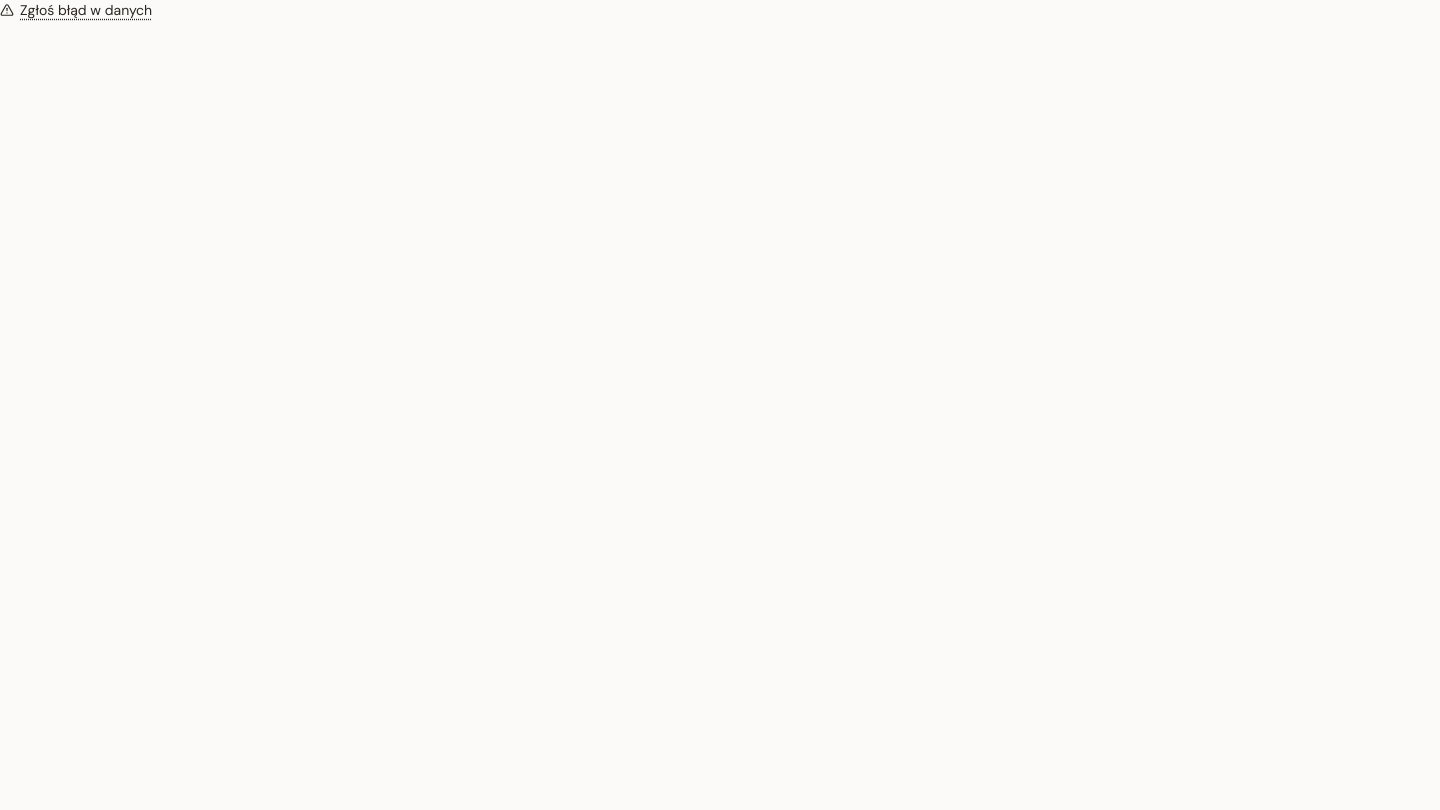
Test case: ReportIssueButton — „wstecz” zamyka dialog (GL-4-056) › „Anuluj” zdejmuje atrapę jednym history.back()
Click the button "Zgłoś błąd w danych". click: (76, 10)
box: left=0, top=0, right=152, bottom=20
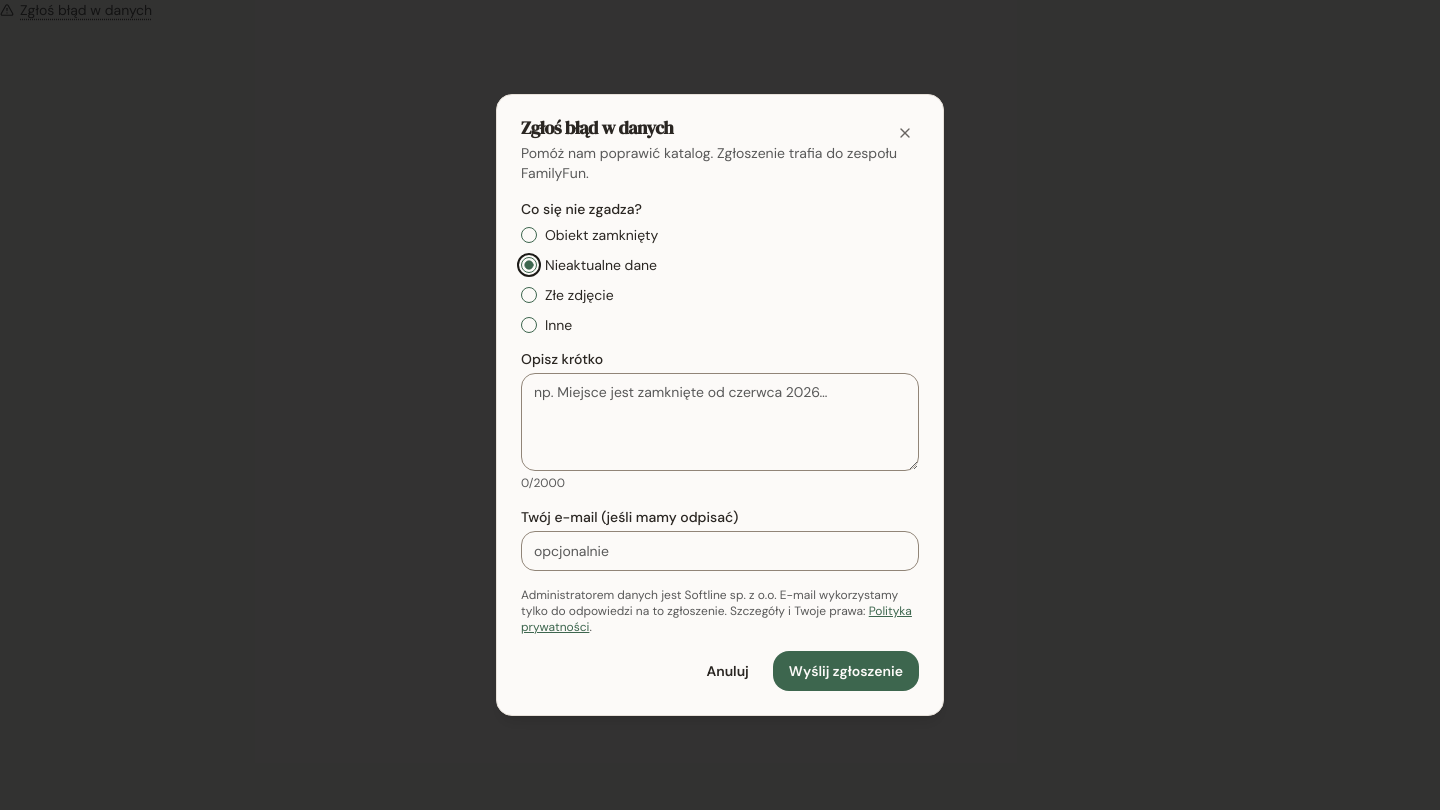
Expected: the dialog is shown, left=496, top=94, right=944, bottom=716
Click the button "Anuluj". click: (728, 671)
box: left=690, top=651, right=765, bottom=691
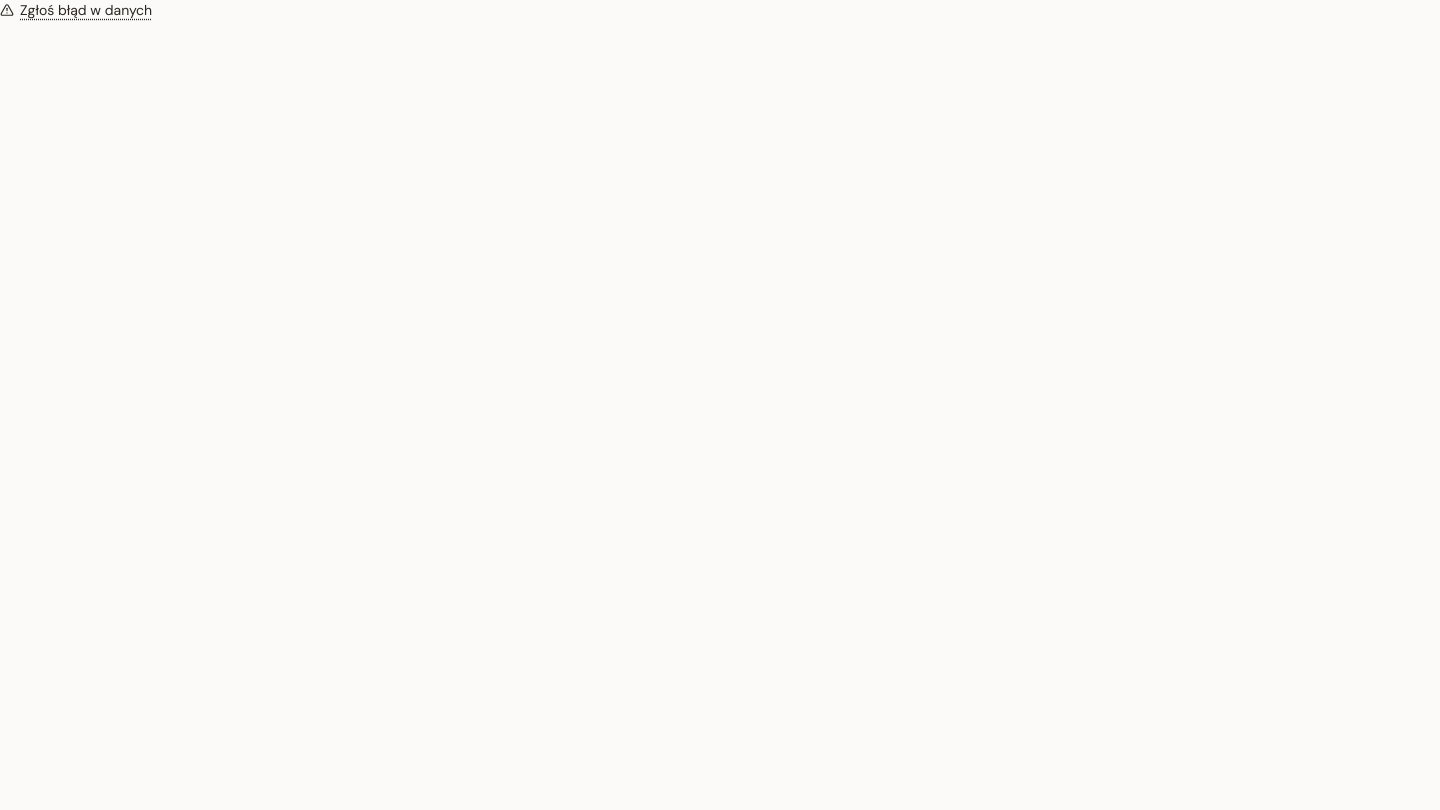
Expected: the dialog is gone
